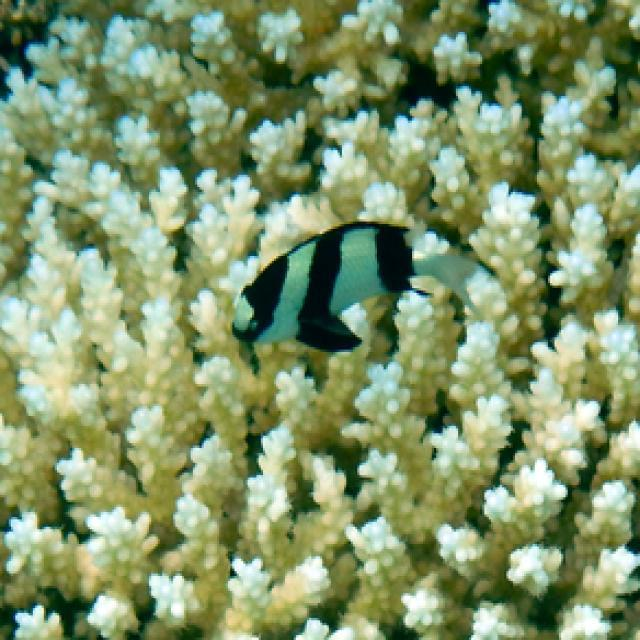Three_striped DasmselFish: (230, 215, 473, 352)
